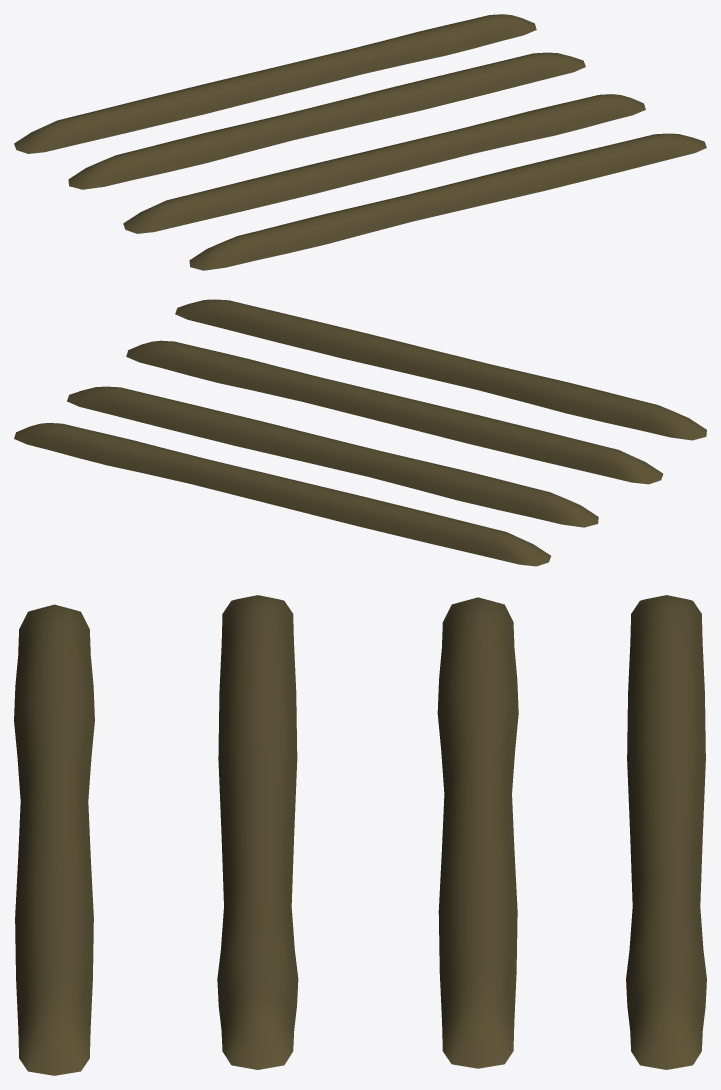
The model's file is Farm_FirstAge_Level2.glb.
3 views of the same model, one above another, from view 1: azimuth 30°, elevation 25°; view 2: azimuth 150°, elevation 25°; view 3: azimuth 270°, elevation 25° (orthographic). The views are drawn at different scales.
Parts seen in each view (by area): view 1: Farm_FirstAge_Level2; view 2: Farm_FirstAge_Level2; view 3: Farm_FirstAge_Level2.
Part boxes in pixels (left/top/right/bottom): Farm_FirstAge_Level2: left=14, top=14, right=706, bottom=270; Farm_FirstAge_Level2: left=14, top=299, right=706, bottom=566; Farm_FirstAge_Level2: left=14, top=595, right=706, bottom=1075.
Size of the model in its own units: 1.79 by 0.0563 by 1.09.
